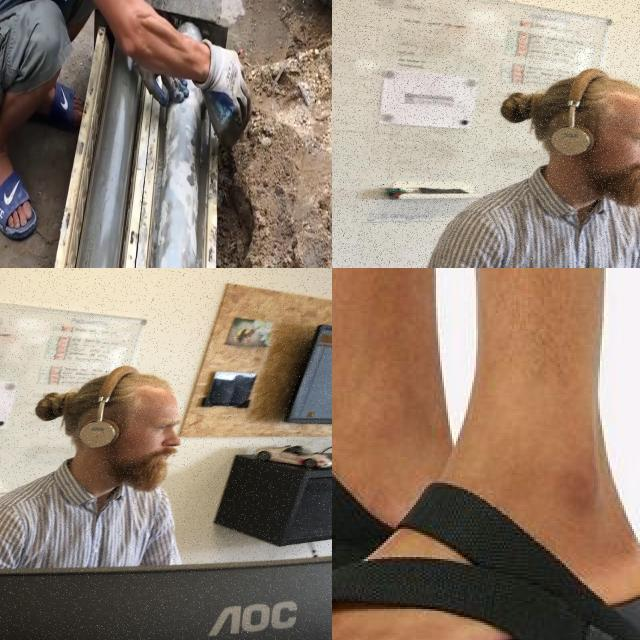Ear-protection: (54, 366, 204, 504), (510, 65, 640, 214)
Sandals: (332, 414, 640, 640), (0, 123, 35, 240)
hand_glove: (193, 36, 254, 125)
